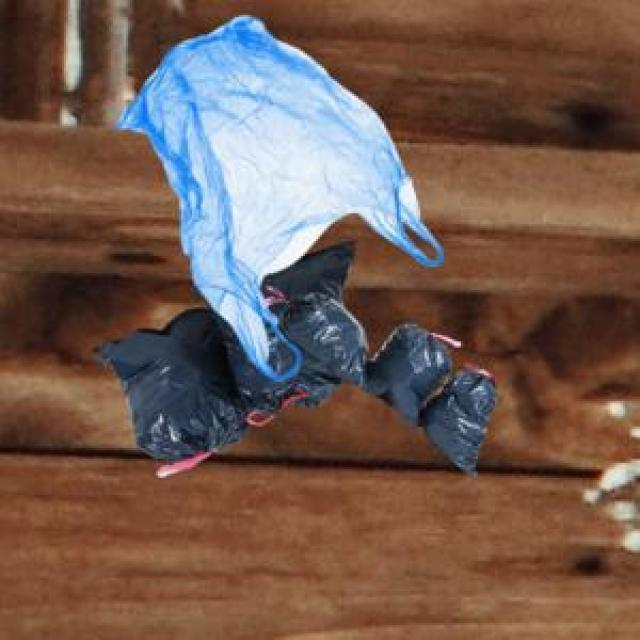miscellaneous trash: (91, 237, 351, 472), (273, 290, 493, 472)
